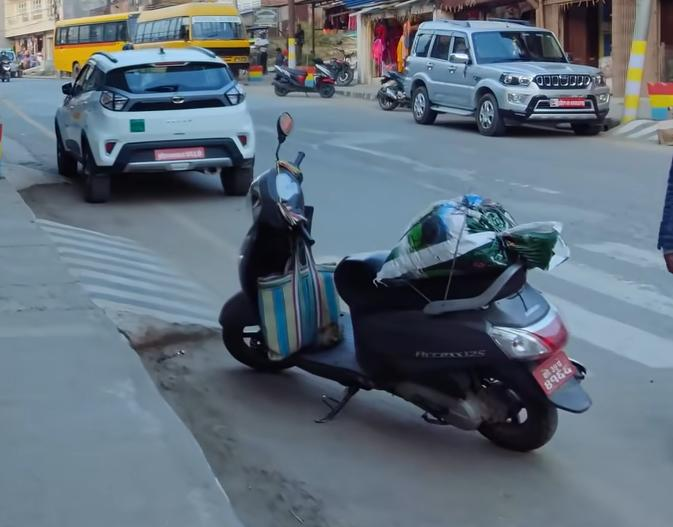SUV: (404, 18, 611, 137)
car: (50, 45, 256, 196)
school_bus: (132, 0, 256, 73), (49, 10, 138, 71)
scooter: (209, 110, 602, 468), (271, 57, 335, 99)
